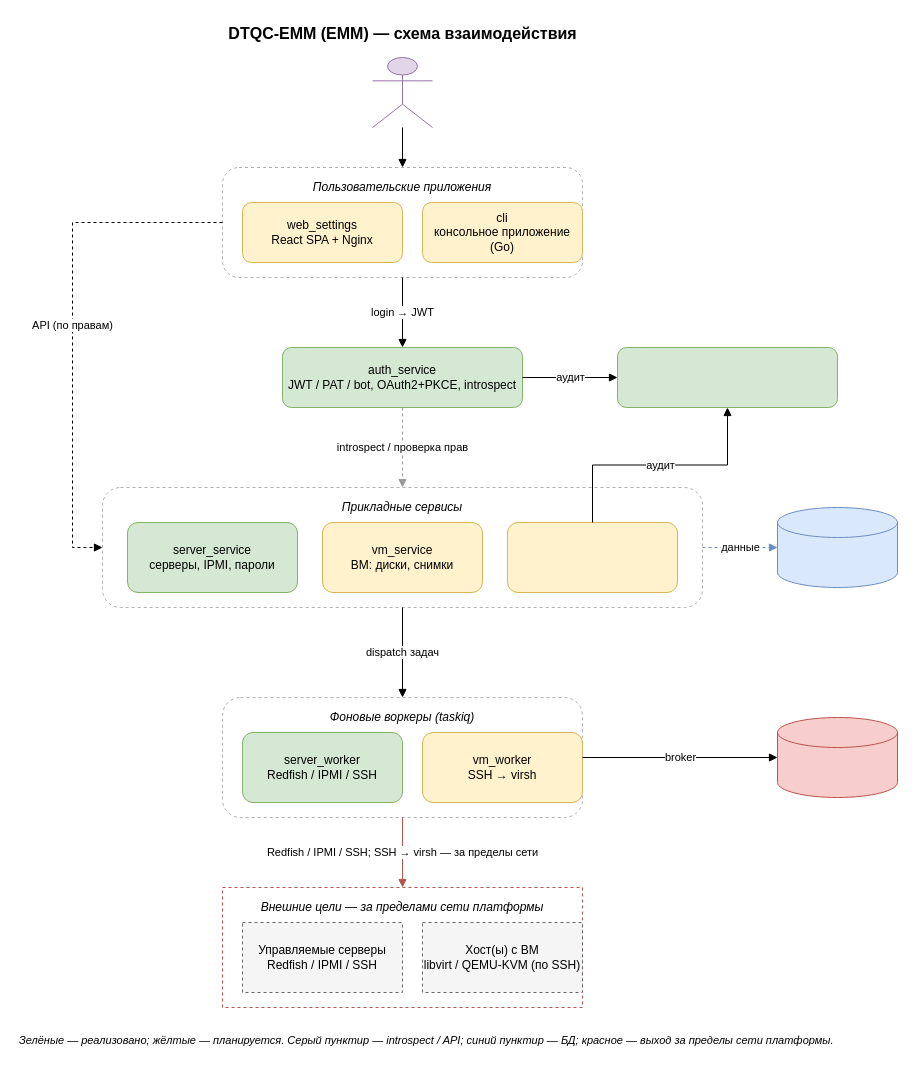
This 915x1074 diagram has some shape labels left out. The shapes that lost their labels are listed below. From the top down, each one's centre as x and y in pixels, then its label:
At (x=402, y=92): "Оператор".
At (x=727, y=377): "loging_service централизованный аудит, retention".
At (x=592, y=557): "secret_service токены/креды интеграций".
At (x=837, y=547): "PostgreSQL (своя БД на сервис)".
At (x=837, y=757): "Redis брокер задач".
